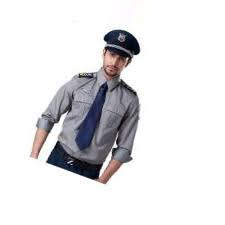uniform: (21, 16, 146, 193)
